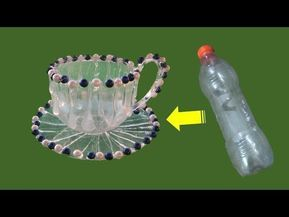plastic_bottle: (184, 27, 278, 198)
